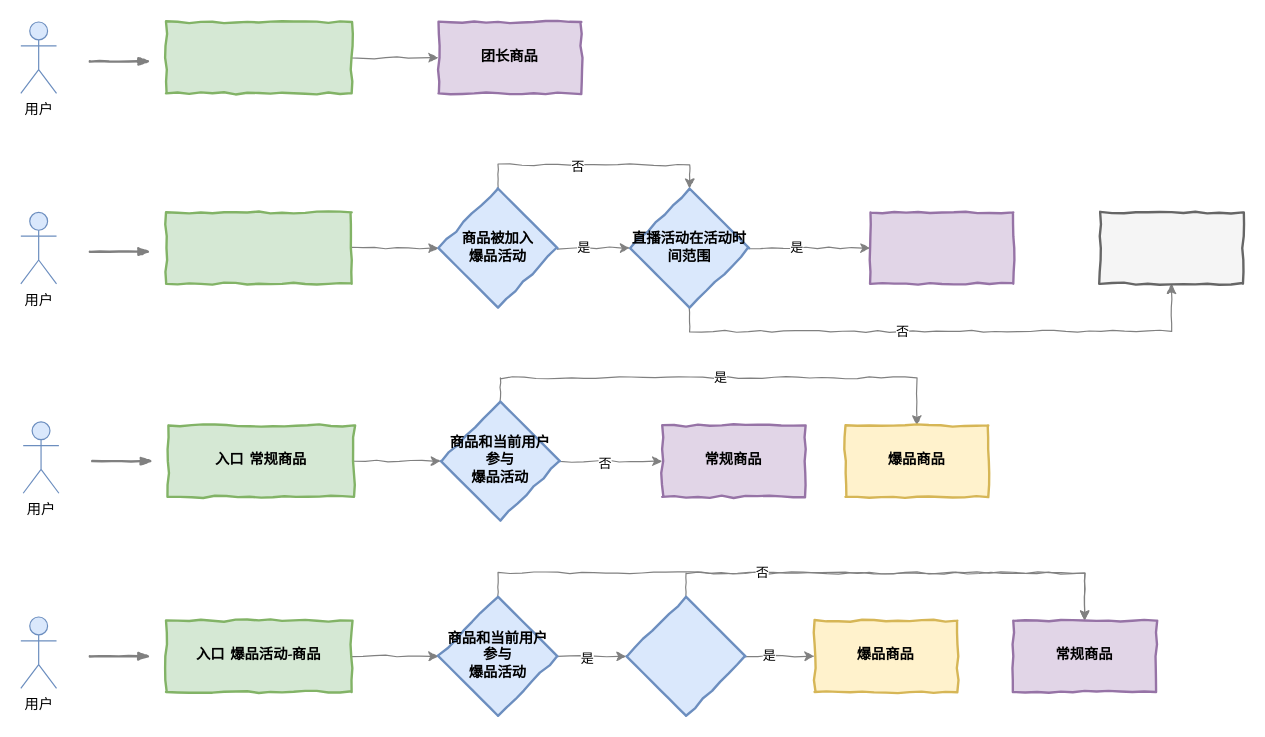
Some shapes in this 1265 by 737 pixel diagram are drawn without their labels. Here are the shapes that lost their labels. From the top down, the box of each, then its label:
(164, 20, 352, 94): 入口 直播活动-团长商品
(164, 211, 352, 284): 入口 直播活动-常规商品
(869, 211, 1014, 284): 直播 - 常规商品
(1098, 211, 1244, 284): 直播 - 常规商品 已经结束
(625, 595, 746, 716): 爆品活动在活动时间范围
